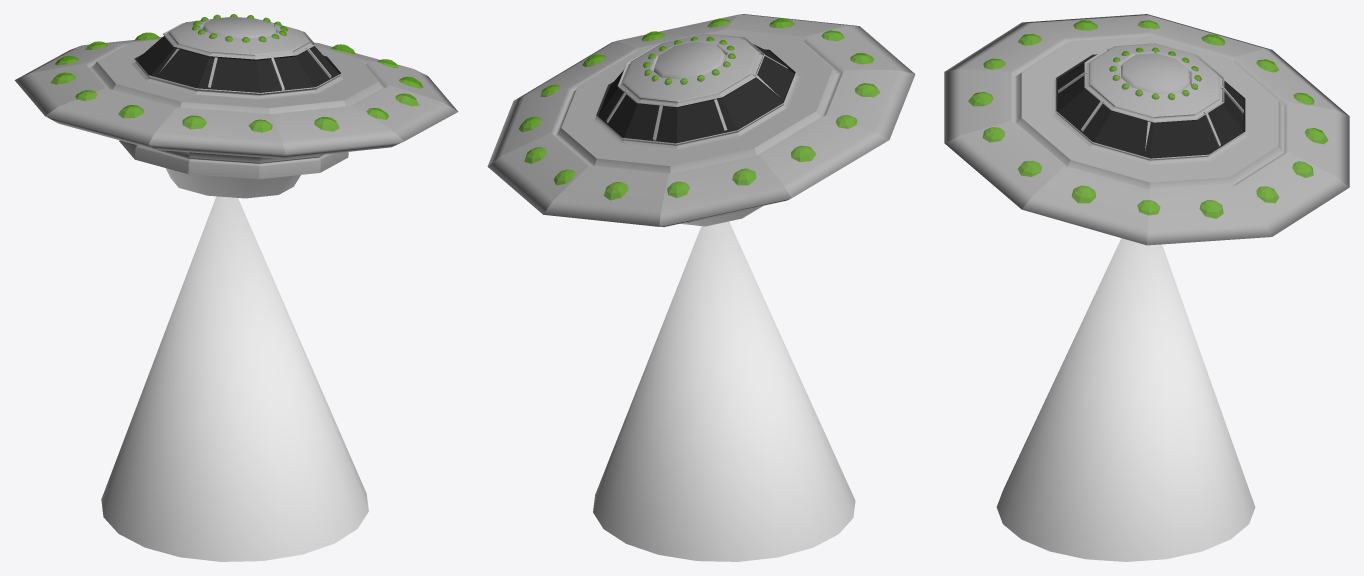
Rendered from UFOCollector.fbx.
3 views of the same model, side by side, from view 1: azimuth 30°, elevation 25°; view 2: azimuth 150°, elevation 25°; view 3: azimuth 270°, elevation 25° (orthographic). The views are drawn at different scales.
Visible parts, largest first — view 1: light, body; view 2: body, light; view 3: body, light.
Part boxes in pixels (left/top/right/bottom): light: left=101, top=196, right=368, bottom=561; body: left=14, top=14, right=458, bottom=198; body: left=487, top=14, right=915, bottom=226; light: left=593, top=221, right=855, bottom=561; body: left=944, top=14, right=1349, bottom=245; light: left=996, top=238, right=1255, bottom=561.
Bounding box in the file's own units: 18.27 × 21.44 × 17.38.
